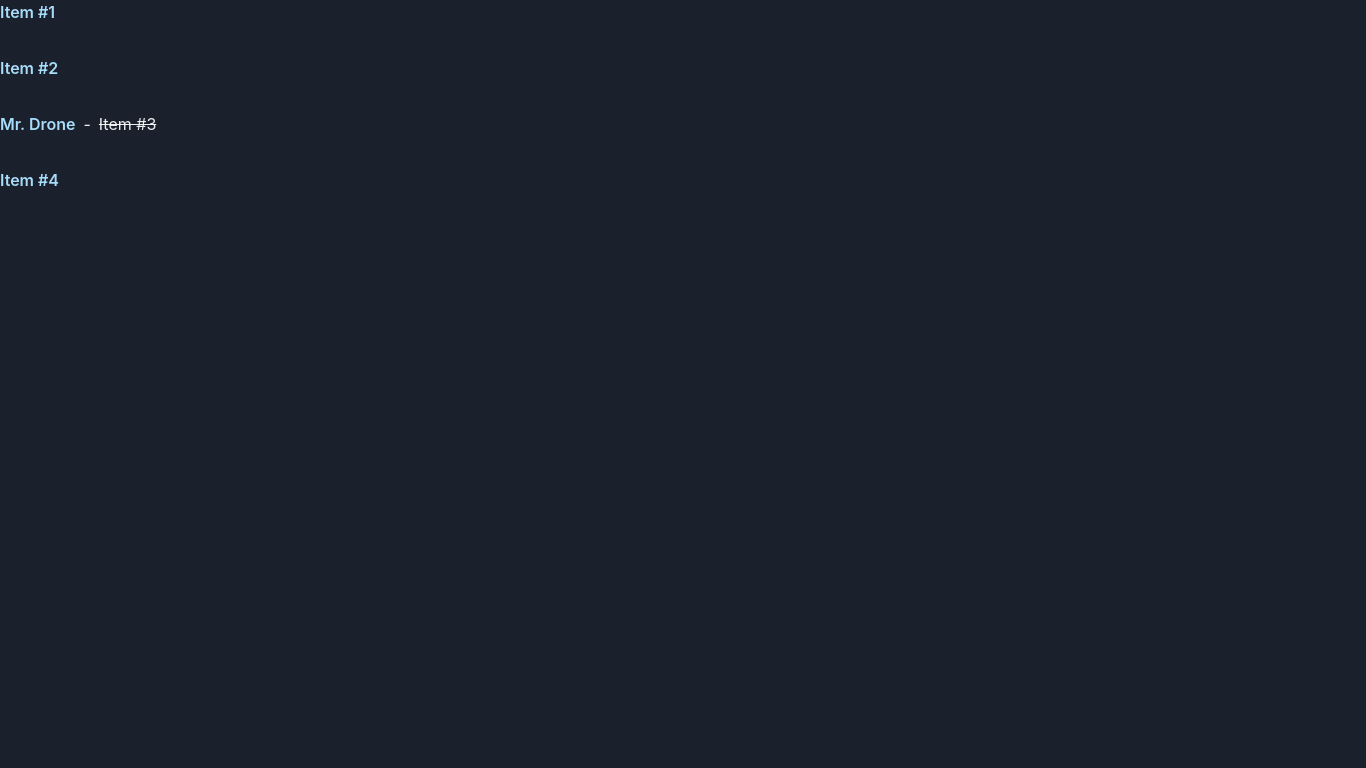
it: modules - gifts - <List /> › should open modal to modify the item when click on an item from list with an assigner
Click the button "Mr. Drone". click: (38, 124)
box: [0,112,76,136]
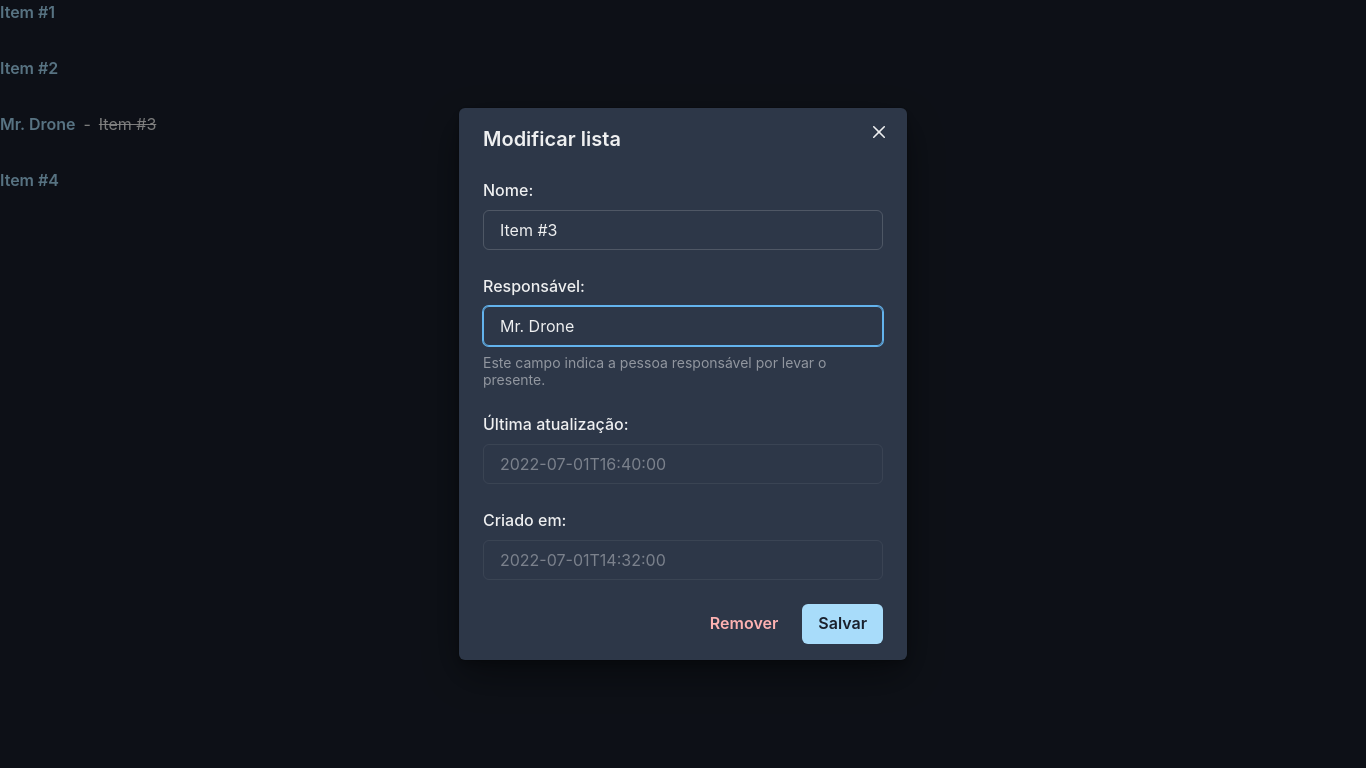
Check: the field labelled "Responsável:" holds "Mr. Drone", box [483,306,883,346]
